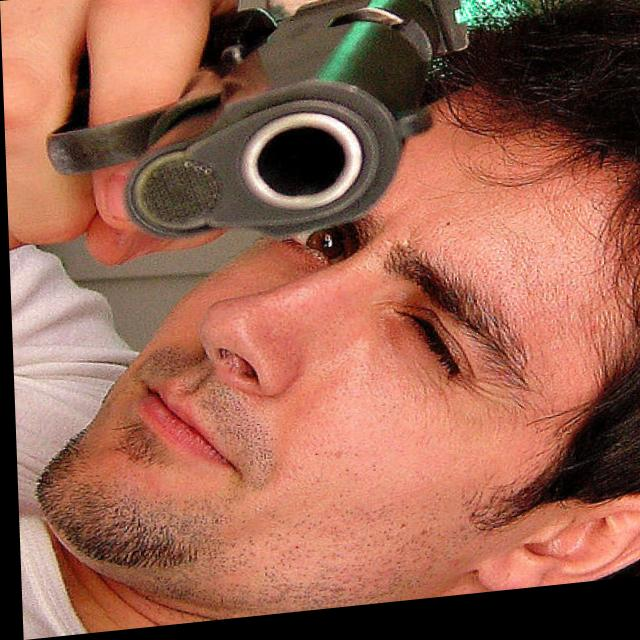handgun: (42, 0, 473, 249)
